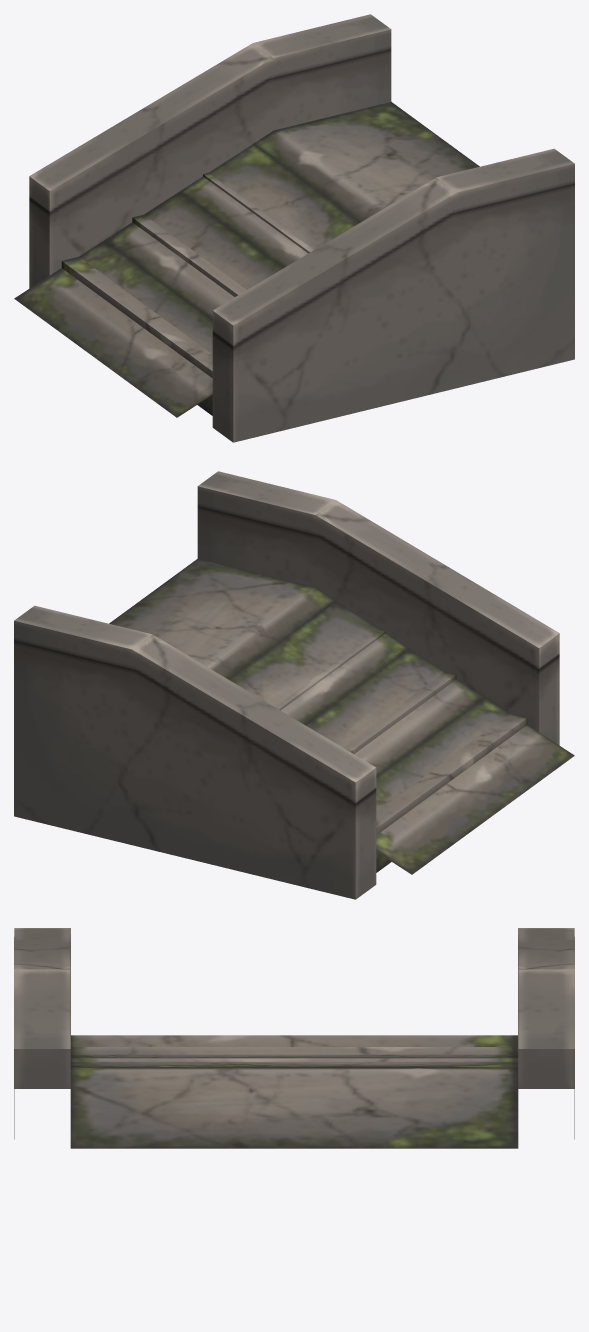
File: stairs02_C.FBX
The picture shows the model from 3 angles, top to bottom: view 1: azimuth 30°, elevation 25°; view 2: azimuth 150°, elevation 25°; view 3: azimuth 270°, elevation 25°; orthographic projection. The views are drawn at different scales.
Visible parts, largest first — view 1: stairs02_C_COL, stairs02_C; view 2: stairs02_C, stairs02_C_COL; view 3: stairs02_C, stairs02_C_COL.
Part boxes in pixels (x1,y1,x2,y2): stairs02_C_COL: (14, 15, 574, 442); stairs02_C: (29, 14, 574, 442); stairs02_C: (14, 471, 559, 899); stairs02_C_COL: (35, 471, 574, 899); stairs02_C: (14, 928, 574, 1148); stairs02_C_COL: (14, 928, 574, 1139).
Size of the model in its own units: 320 by 159 by 300.
